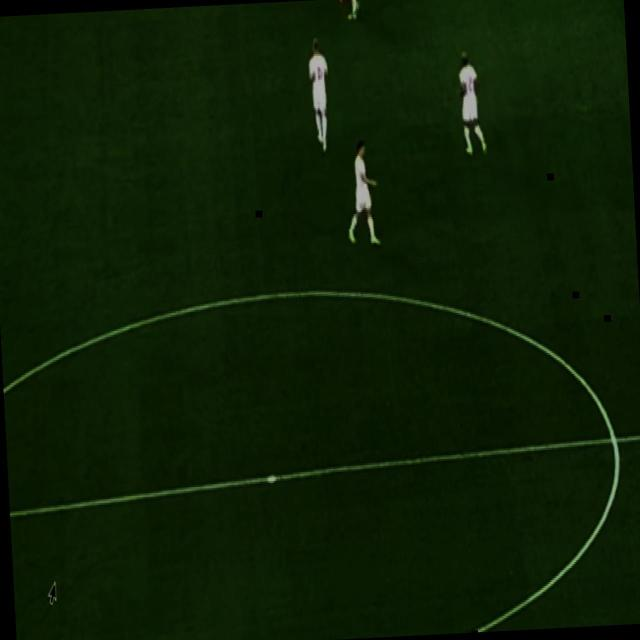player-white: (343, 139, 381, 249), (456, 48, 488, 158), (306, 37, 332, 154), (344, 0, 362, 22), (328, 0, 351, 4)
